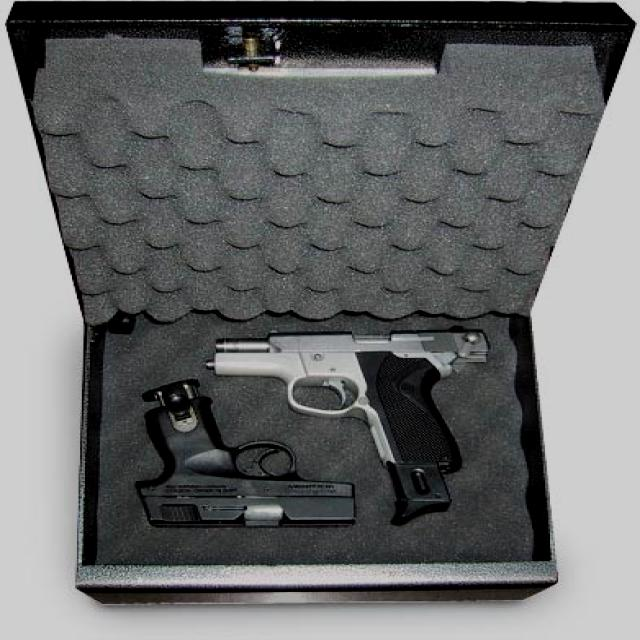pistol: (205, 326, 488, 470), (118, 397, 362, 525)
